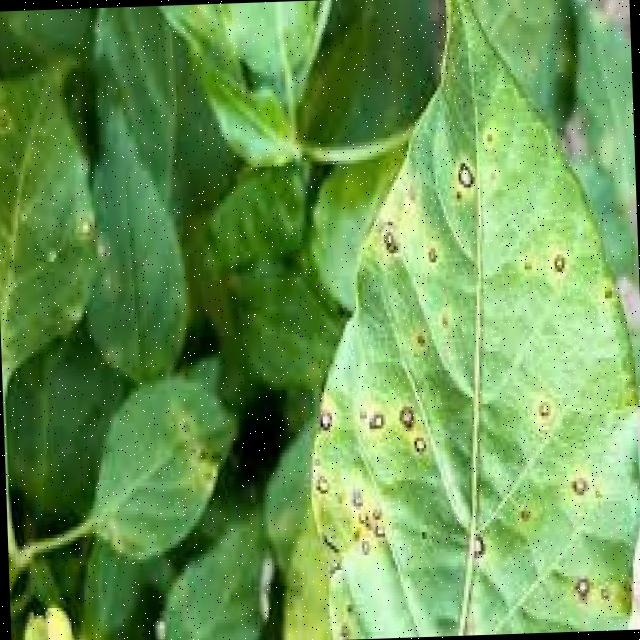leaf spot: (275, 3, 640, 640), (70, 376, 236, 563)
